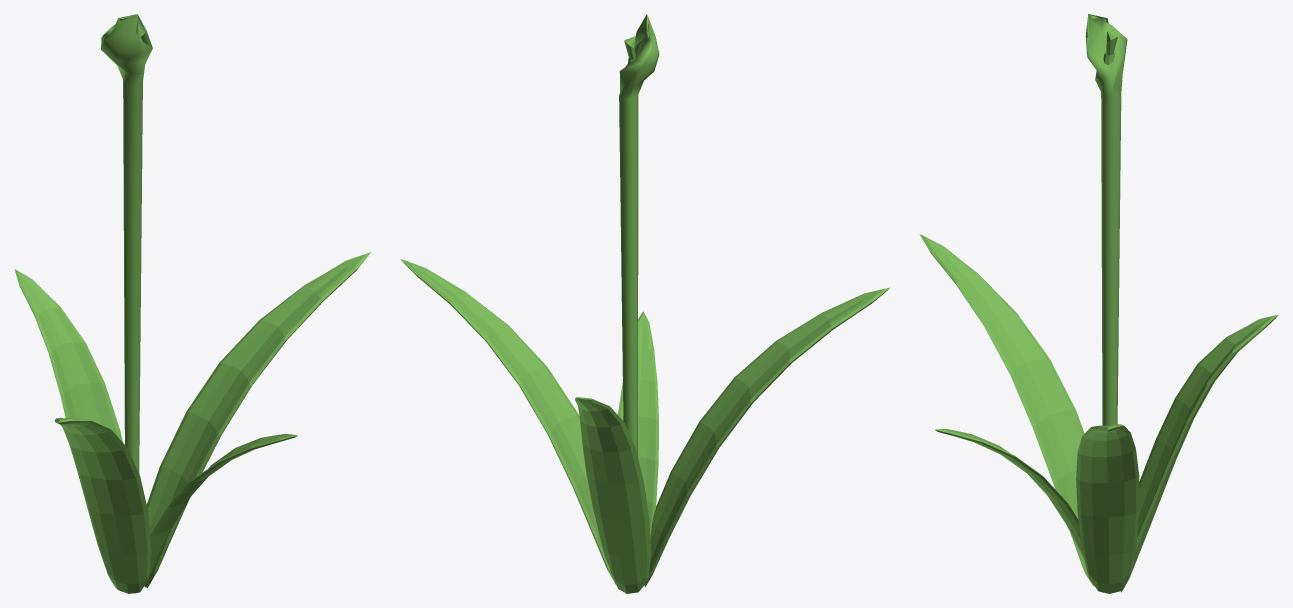
File: stem.fbx
The picture shows the model from 3 angles, left to right: view 1: azimuth 30°, elevation 25°; view 2: azimuth 150°, elevation 25°; view 3: azimuth 270°, elevation 25°; orthographic projection. The views are drawn at different scales.
Visible parts, largest first — view 1: Grass.014; view 2: Grass.014; view 3: Grass.014.
Part boxes in pixels (box(x1,y1,x2,y2)): Grass.014: box(14, 14, 371, 593); Grass.014: box(401, 14, 889, 593); Grass.014: box(919, 14, 1277, 593).
Size of the model in its own units: 127 by 174 by 98.39.
